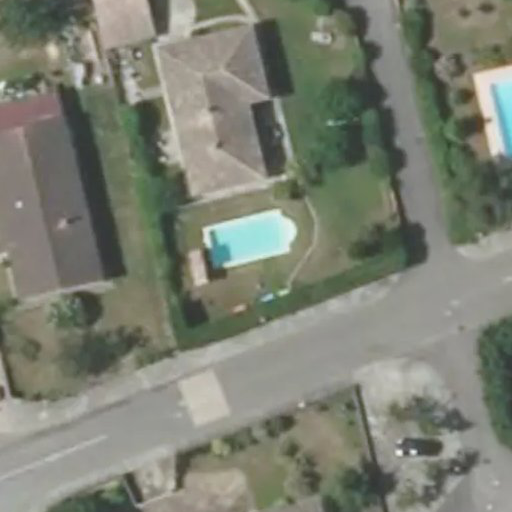pool: (211, 231, 304, 249)
